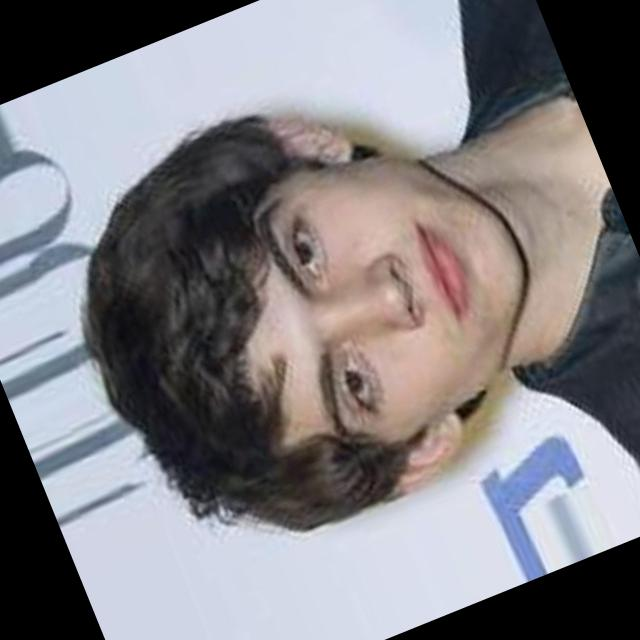bareface: (70, 69, 581, 556)
